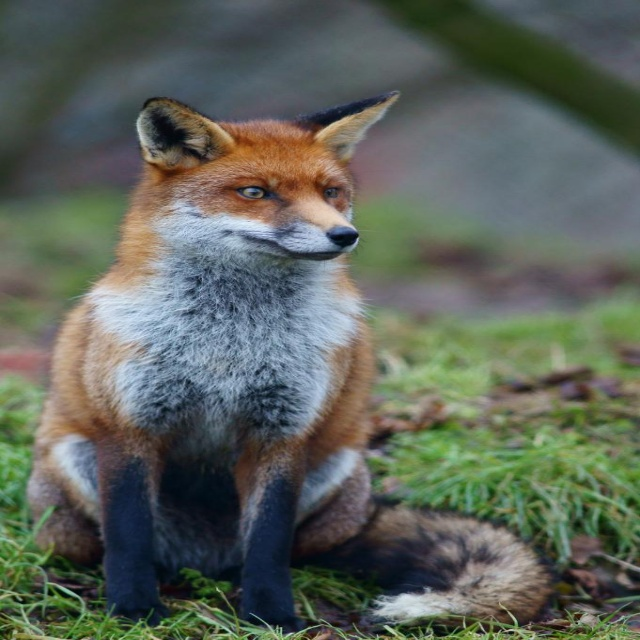Fox: (22, 88, 554, 638)
